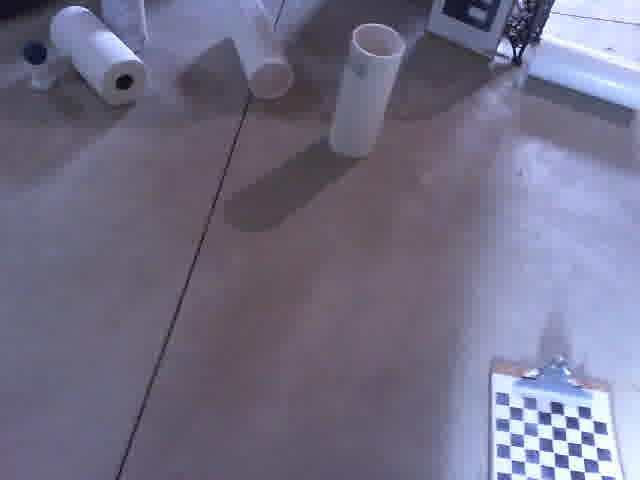coral: (318, 21, 410, 156), (223, 0, 300, 103), (93, 0, 155, 57)
